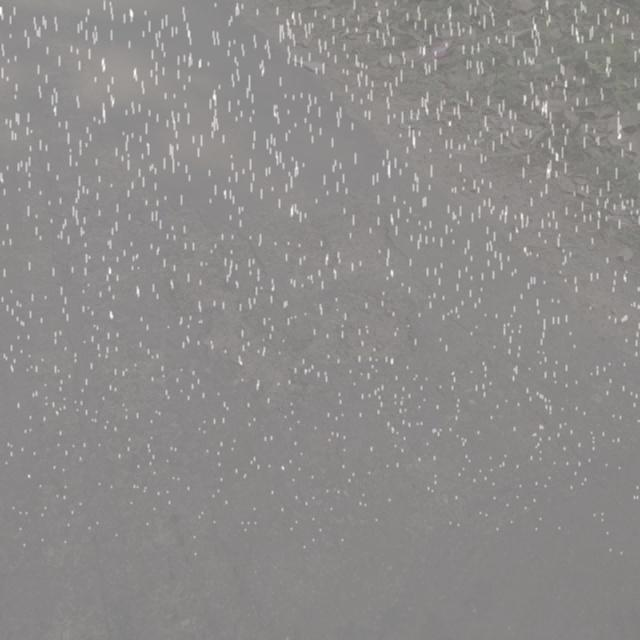Pothole: (287, 279, 431, 382)
